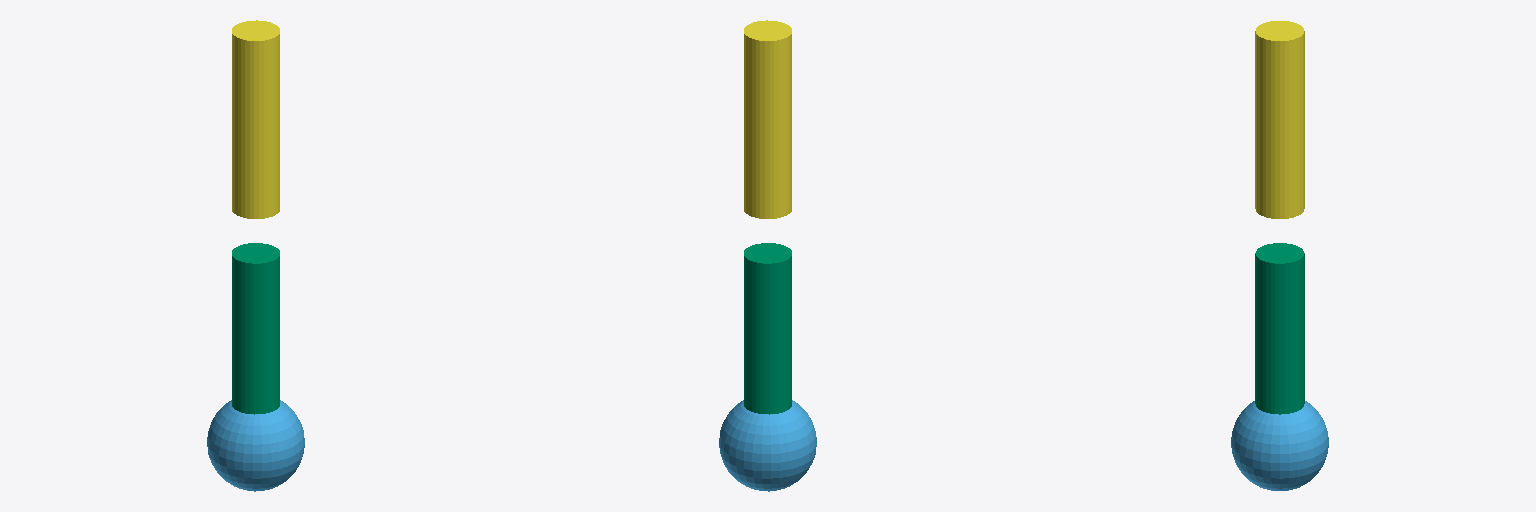
The robot description file, URDF, robot "test_floating":
<?xml version="1.0" encoding="UTF-8"?>
<robot name="test_floating">

  <link name="root_link"/>

  <joint name="root_to_base" type="fixed">
    <parent link="root_link"/>
    <child link="base_link"/>
  </joint>

  <link name="base_link">
    <visual>
      <geometry>
        <sphere radius="0.2"/>
      </geometry>
    </visual>
    <collision>
      <geometry>
        <sphere radius="0.2"/>
      </geometry>
    </collision>
    <inertial>
      <mass value="10"/>
      <inertia ixx="1.0" ixy="0.0" ixz="0.0" iyy="1.0" iyz="0.0" izz="1.0"/>
    </inertial>
  </link>

  <joint name="base_joint" type="continuous">
    <parent link="base_link"/>
    <child link="link_1"/>
    <axis xyz="0 0 1"/>
    <origin xyz="0 0 0.45"/>
  </joint>

  <link name="link_1">
    <visual>
      <geometry>
        <cylinder length="0.8" radius=".1"/>
      </geometry>
    </visual>
    <collision>
      <geometry>
        <cylinder length="0.8" radius=".1"/>
      </geometry>
    </collision>
    <inertial>
      <mass value="10"/>
      <inertia ixx="1.0" ixy="0.0" ixz="0.0" iyy="1.0" iyz="0.0" izz="1.0"/>
    </inertial>
  </link>
  <link name="floating_link">
    <visual>
      <geometry>
        <cylinder length="0.8" radius=".1"/>
      </geometry>
      <material name="green"/>
    </visual>
    <collision>
      <geometry>
        <cylinder length="0.8" radius=".1"/>
      </geometry>
    </collision>
    <inertial>
      <mass value="10"/>
      <inertia ixx="1.0" ixy="0.0" ixz="0.0" iyy="1.0" iyz="0.0" izz="1.0"/>
    </inertial>
  </link>
  <joint name="floating_joint" type="floating">
    <parent link="link_1"/>
    <child link="floating_link"/>
    <origin xyz="0.0 0.0 1.0"/>
  </joint>
</robot>

--- Render facts (derived) ---
3 views of the same robot in one strip: view 1: azimuth 30°, elevation 25°; view 2: azimuth 150°, elevation 25°; view 3: azimuth 270°, elevation 25° (orthographic).
Robot: test_floating — 4 links, 3 joints (1 continuous, 1 fixed, 1 floating); root link root_link; default pose: every joint at zero.
Links seen in each view (by area): view 1: floating_link, link_1, base_link; view 2: floating_link, link_1, base_link; view 3: floating_link, link_1, base_link.
Boxes of the visible links, x1,y1,x2,y2 form: floating_link: (232,20,279,218); link_1: (232,243,279,414); base_link: (207,400,304,491); floating_link: (744,20,791,218); link_1: (744,243,791,414); base_link: (719,400,816,491); floating_link: (1255,21,1304,218); link_1: (1255,243,1304,414); base_link: (1231,401,1328,490).
Bounding box of the posed robot: 0.4 × 0.4 × 2.05 m (x, y, z).
Geometry: primitives only (box / cylinder / sphere), no mesh files.